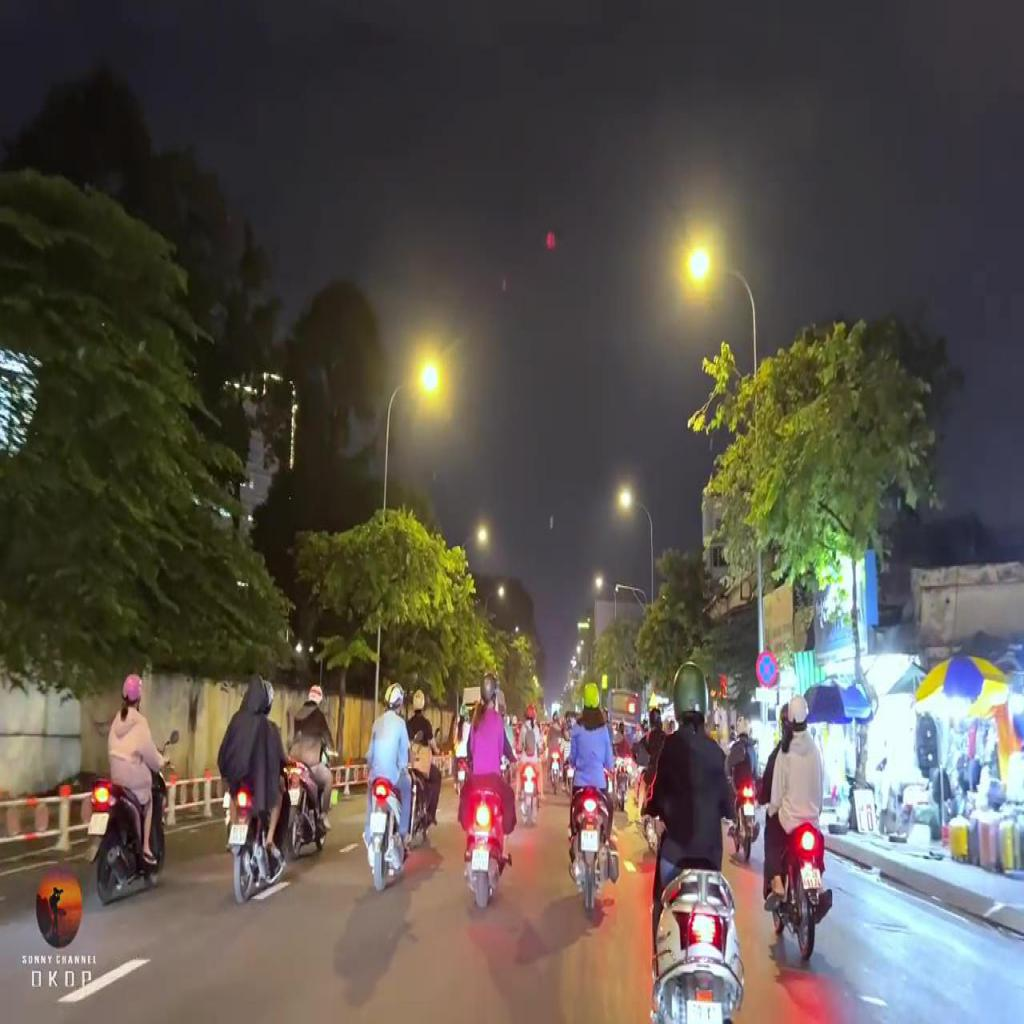cam_dung_xe_va_do_xe: (756, 650, 778, 687)
